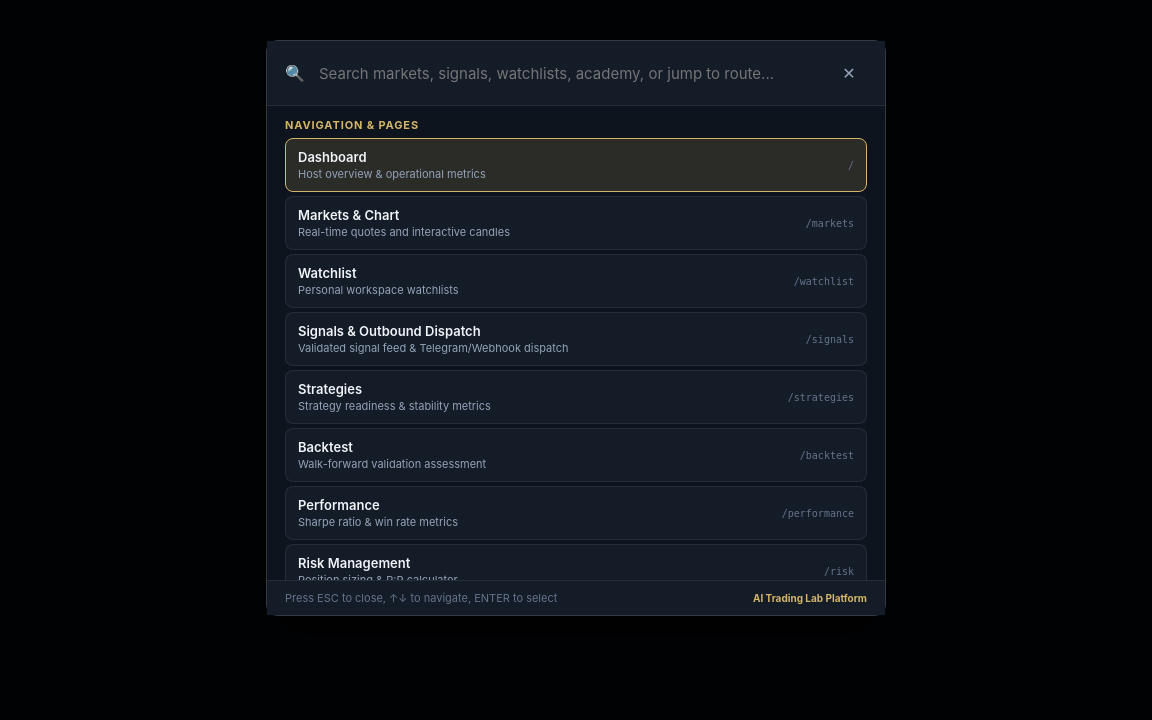
it: CommandPalette component › filters search results when typing
Replace the text in the field with placeholder "Search markets" with "XAUUSD". click: (568, 73)
box: x1=317 y1=62 x2=819 y2=84
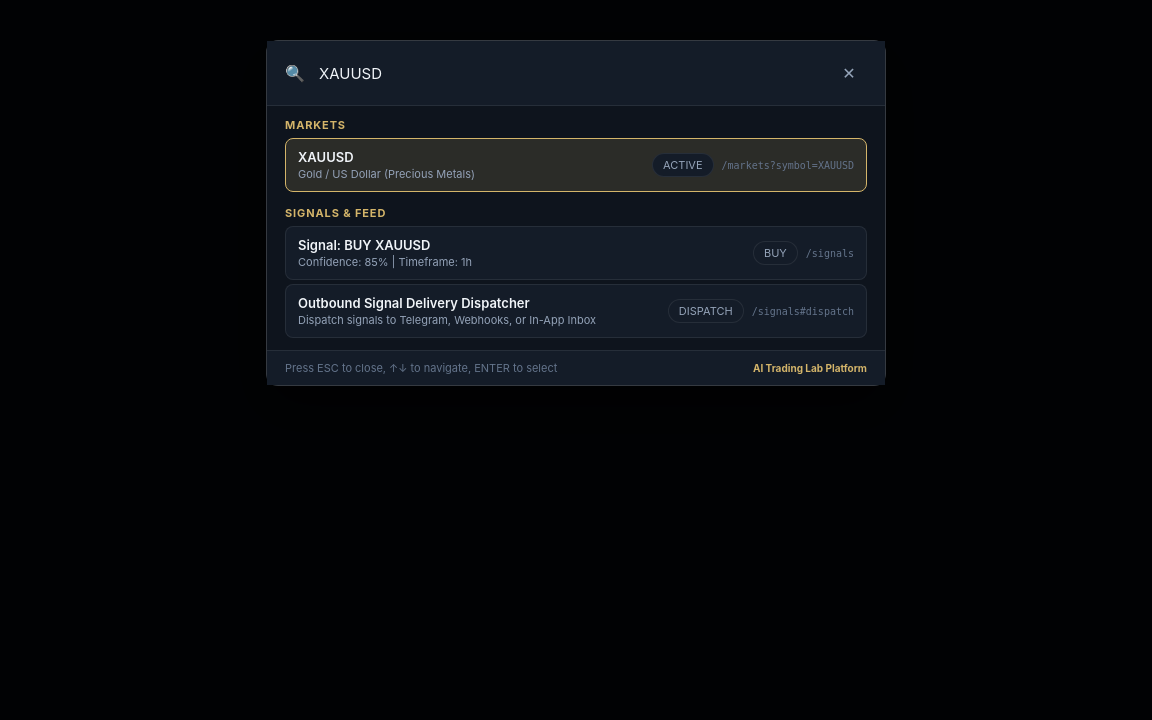
Check: the text "XAUUSD" is shown, box x1=298 y1=149 x2=354 y2=165
